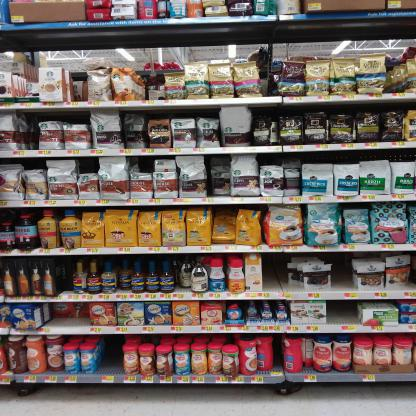Void: (306, 154, 412, 162), (264, 254, 288, 289), (52, 261, 71, 293), (335, 256, 352, 290), (327, 304, 354, 324), (105, 340, 121, 373), (55, 316, 89, 330), (78, 159, 97, 173), (277, 338, 284, 374), (138, 157, 155, 171), (28, 159, 44, 168)
